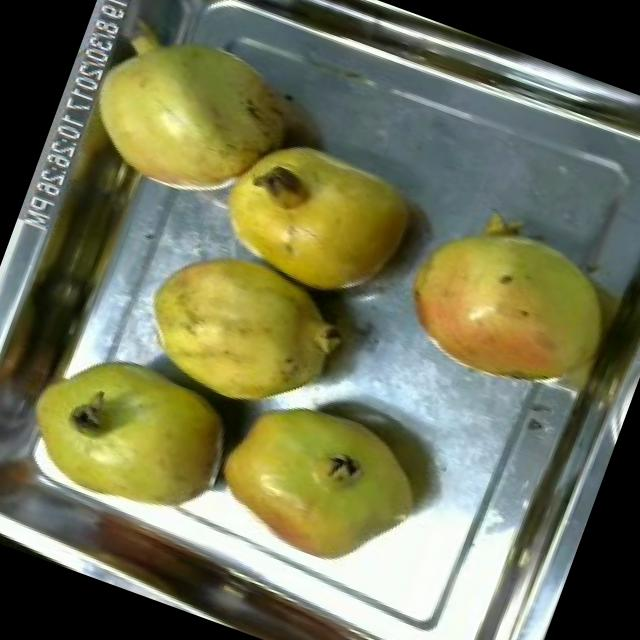fruit: (375, 175, 640, 422), (186, 364, 453, 597), (0, 313, 262, 550), (59, 2, 315, 232), (110, 221, 373, 444), (195, 112, 441, 322)
